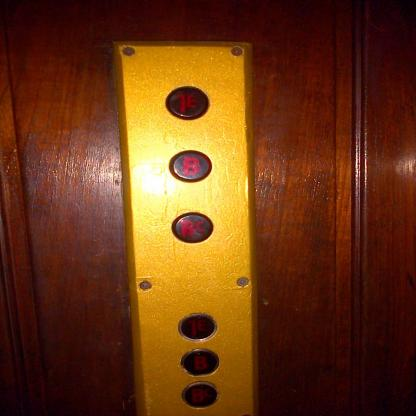1E: (164, 84, 211, 120), (178, 311, 218, 342)
B: (168, 147, 214, 184), (180, 347, 221, 377)
BC: (170, 210, 215, 246), (181, 379, 221, 410)
